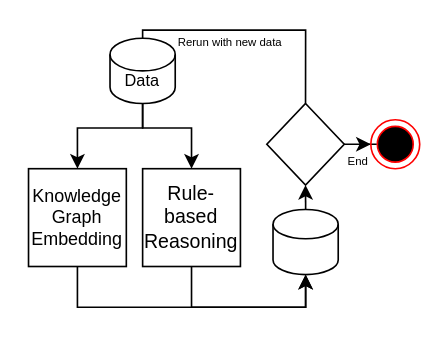
This 448x349 diagram has some shape labels left out. The centre of each missing label's shape, as x and y in pixels:
Generated Data: point 304,241
Probable?: point 304,143
